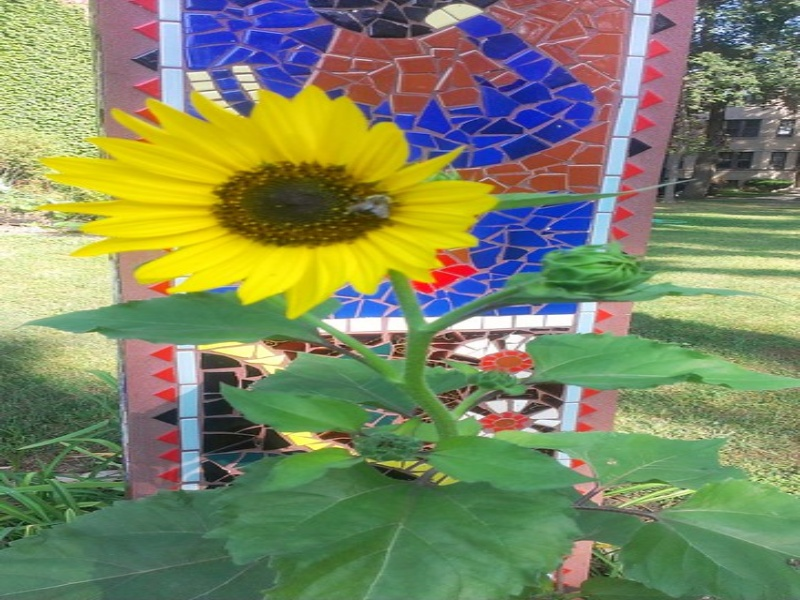sunflower: (48, 60, 518, 352)
